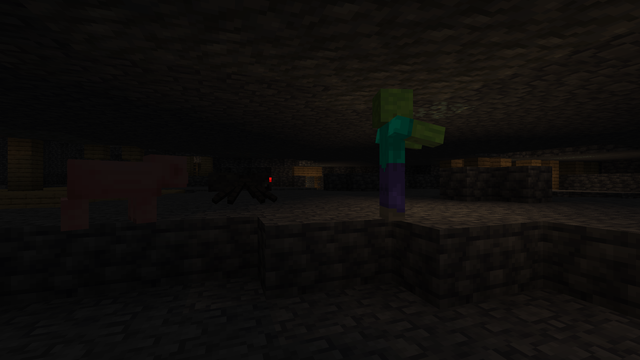araignees: (217, 168, 273, 204)
cochons: (56, 157, 159, 230)
zombies: (365, 89, 418, 222)
